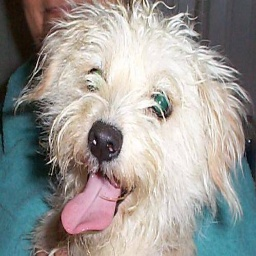dog: (17, 0, 245, 256)
